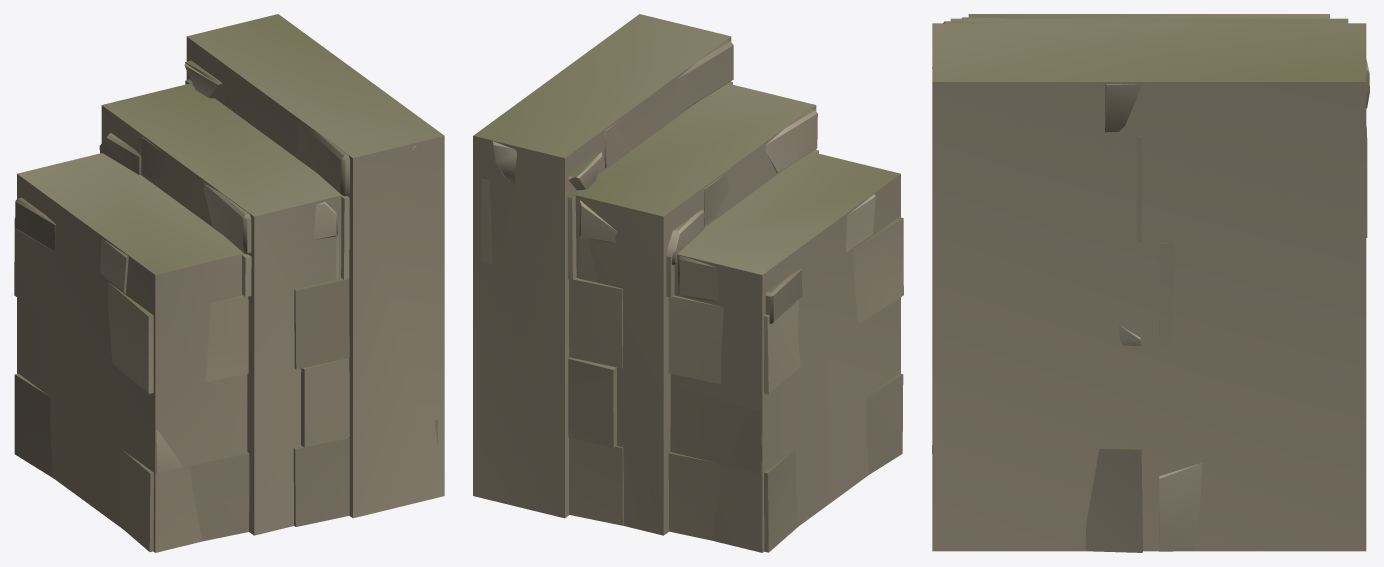
Rendered from theatre_seat_1.glb.
3 renders of one model, left to right at view 1: azimuth 30°, elevation 25°; view 2: azimuth 150°, elevation 25°; view 3: azimuth 270°, elevation 25°, orthographic. The views are drawn at different scales.
Parts seen in each view (by area): view 1: theatre_seat_1_far, theatre_seat_1; view 2: theatre_seat_1_far, theatre_seat_1; view 3: theatre_seat_1_far, theatre_seat_1.
Part boxes in pixels (box(x1,y1,x2,y2)): theatre_seat_1_far: box(17, 14, 444, 552); theatre_seat_1: box(14, 60, 437, 551); theatre_seat_1_far: box(473, 14, 900, 552); theatre_seat_1: box(481, 40, 903, 552); theatre_seat_1_far: box(932, 14, 1366, 551); theatre_seat_1: box(932, 17, 1369, 552).
Bounding box in the file's own units: 8.67 × 10.51 × 8.88.
